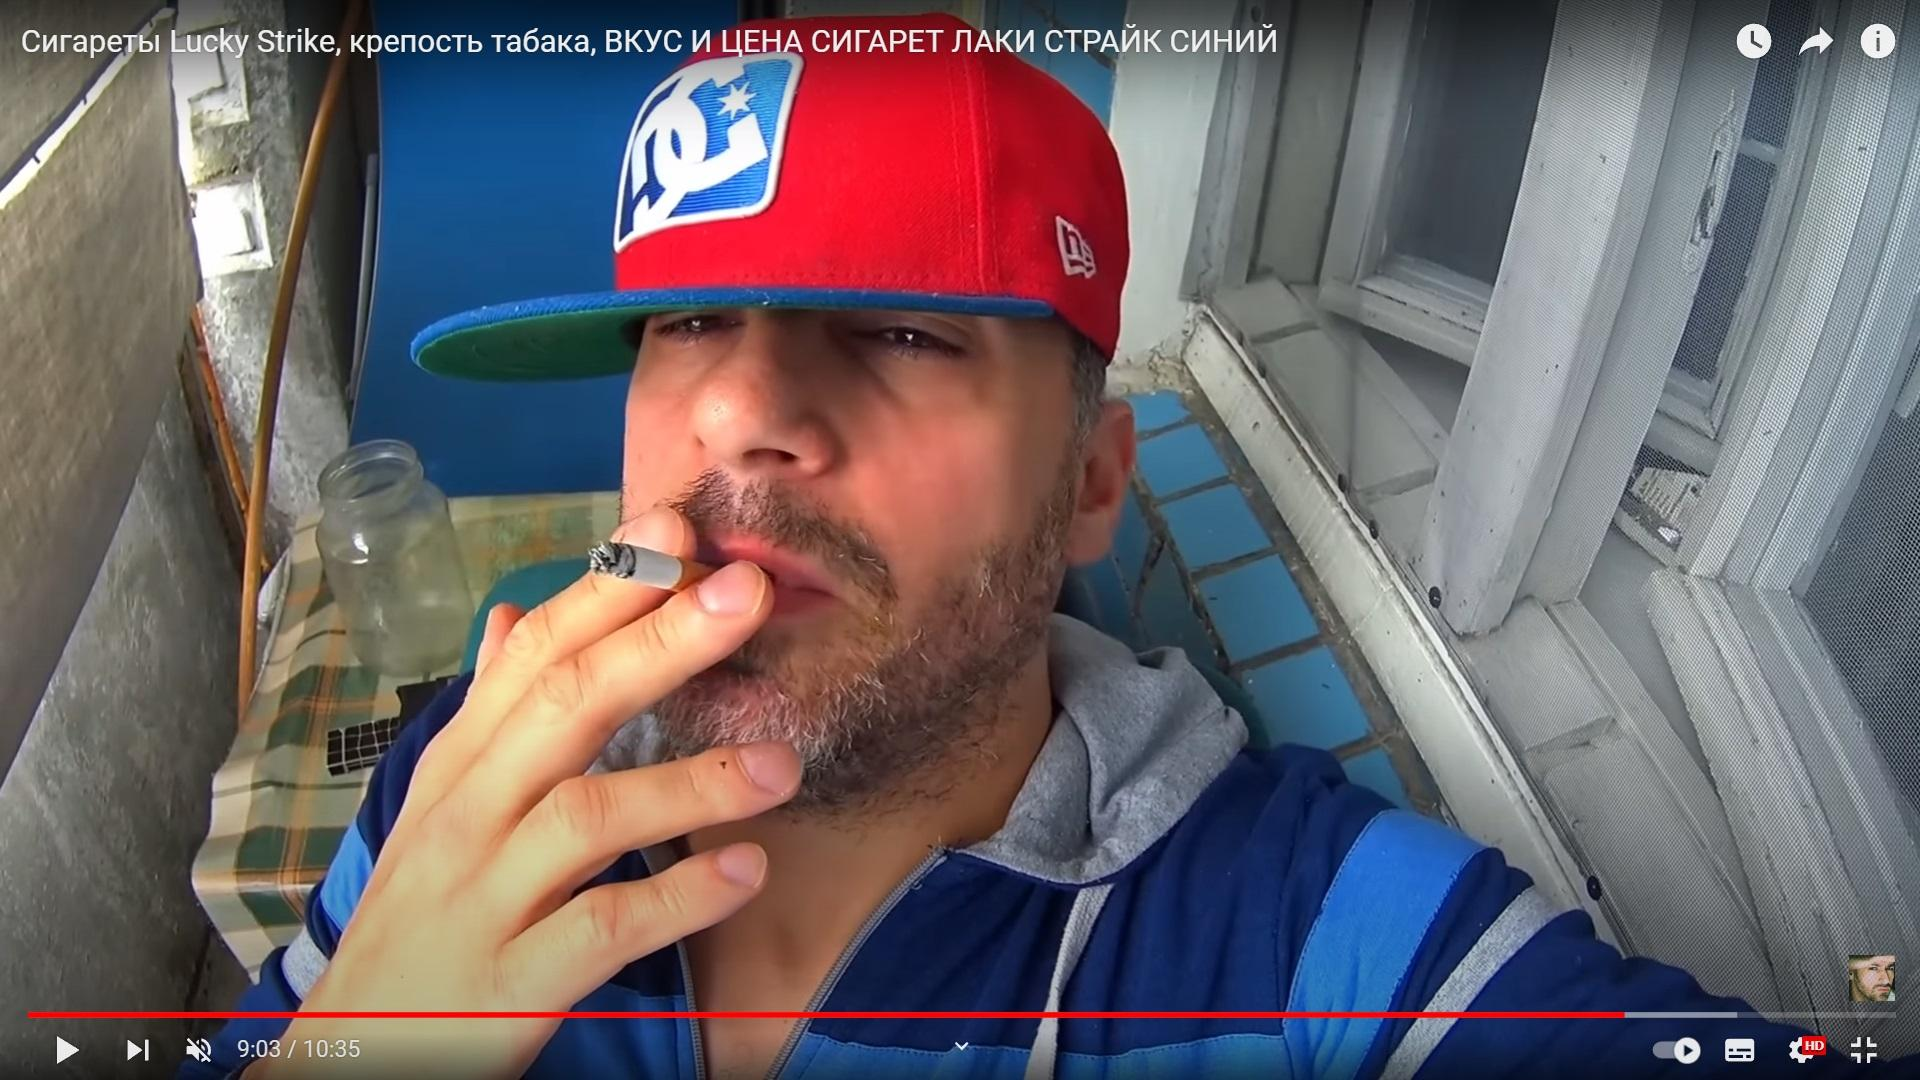cigarette: (587, 541, 720, 592)
